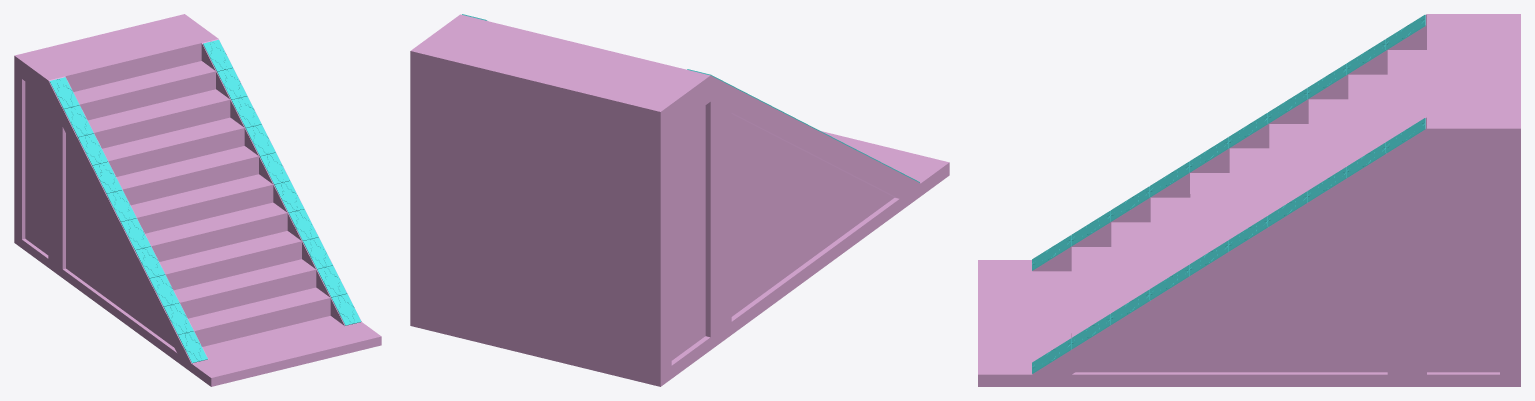
The model's file is stairs_low.fbx.
The picture shows the model from 3 angles, left to right: view 1: azimuth 30°, elevation 25°; view 2: azimuth 150°, elevation 25°; view 3: azimuth 270°, elevation 25°; orthographic projection. The views are drawn at different scales.
Parts seen in each view (by area): view 1: stairs_pleins.001, tiles_droite.001, tiles_gauche.002; view 2: stairs_pleins.001; view 3: stairs_pleins.001, tiles_gauche.002, tiles_droite.001.
Part boxes in pixels (x1,y1,x2,y2): stairs_pleins.001: [14, 14, 381, 386]; tiles_droite.001: [203, 39, 361, 325]; tiles_gauche.002: [49, 77, 207, 363]; stairs_pleins.001: [410, 14, 949, 386]; stairs_pleins.001: [978, 14, 1520, 386]; tiles_gauche.002: [1032, 15, 1425, 270]; tiles_droite.001: [1032, 118, 1425, 373].
Size of the model in its own units: 500 by 525 by 1000.
